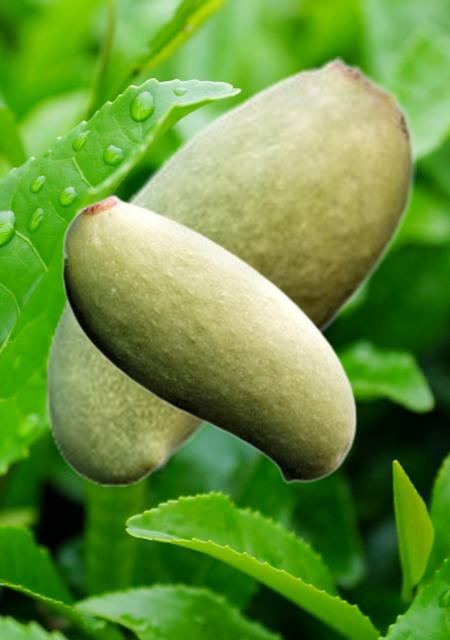green_mango: (44, 56, 415, 485), (61, 193, 356, 483)
